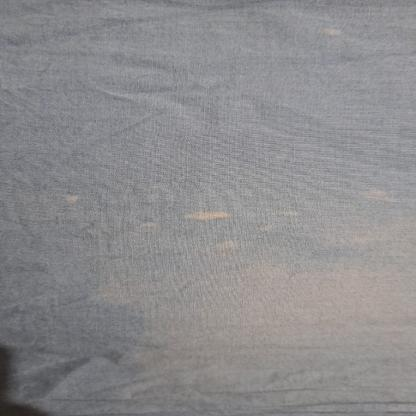spot: (65, 213, 414, 406), (263, 203, 307, 233), (200, 235, 258, 257), (356, 184, 404, 210), (178, 206, 239, 226), (118, 215, 162, 232), (56, 192, 92, 206)
